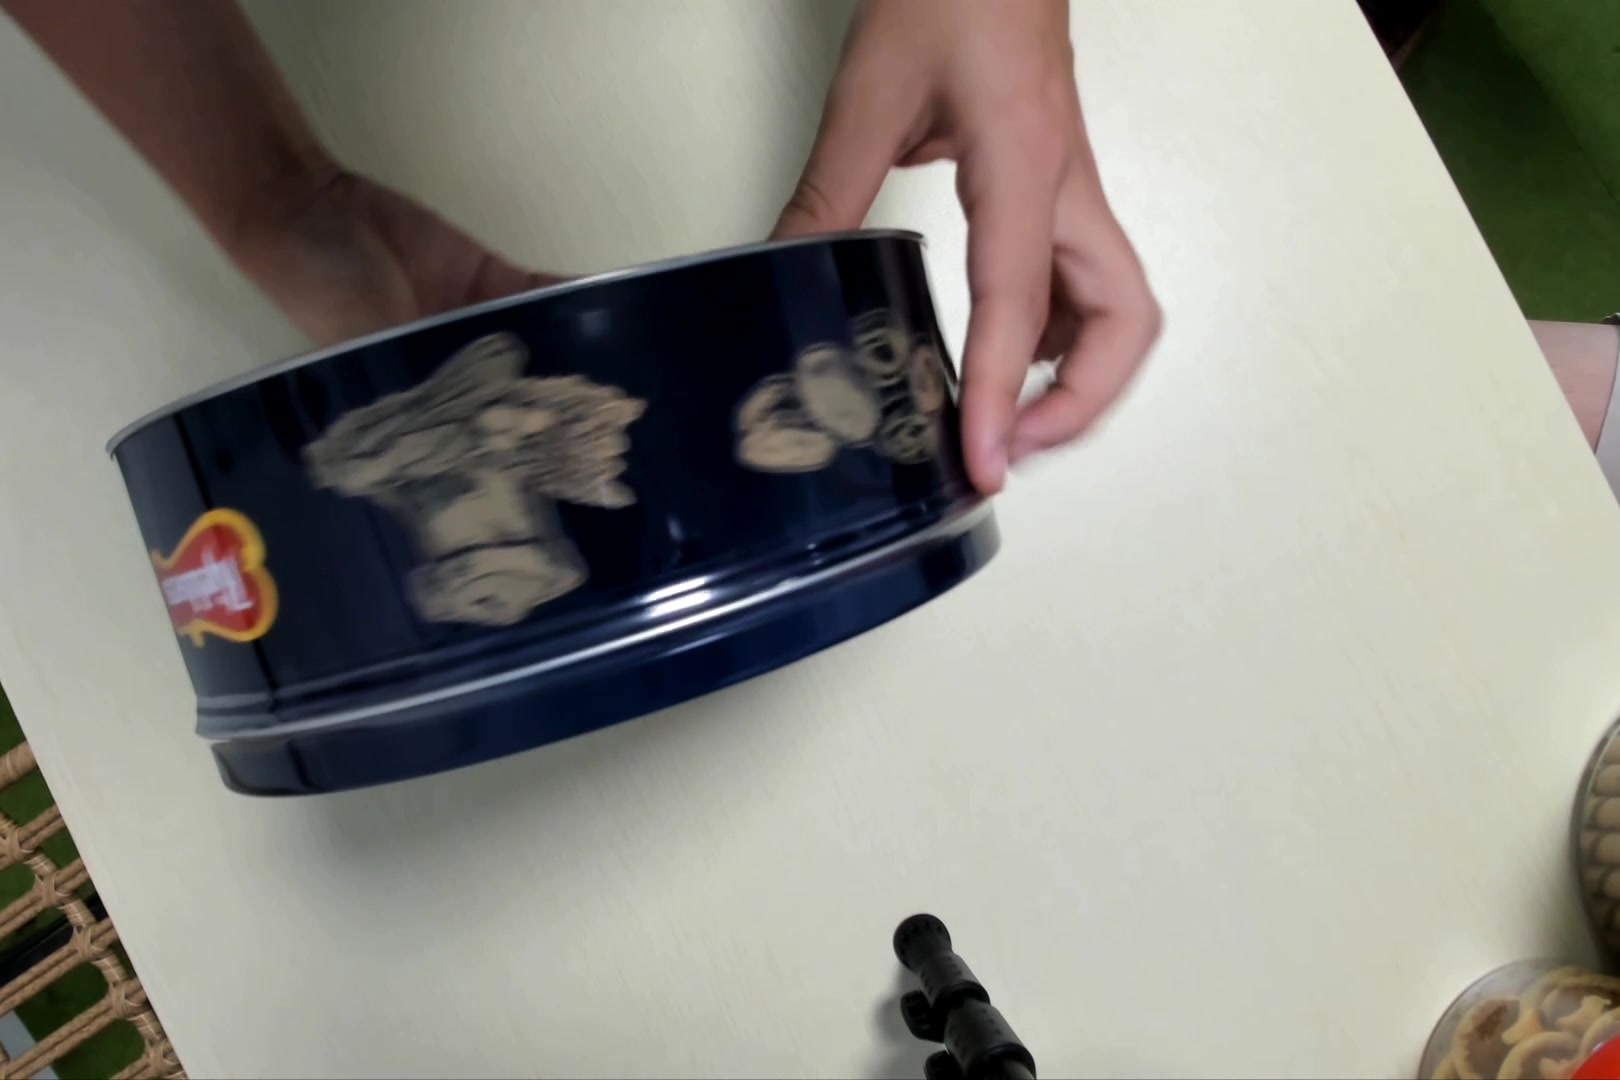BiscuitsCrackersCookies_400-499g_Halal_NonHealthy: (106, 237, 1006, 814)
